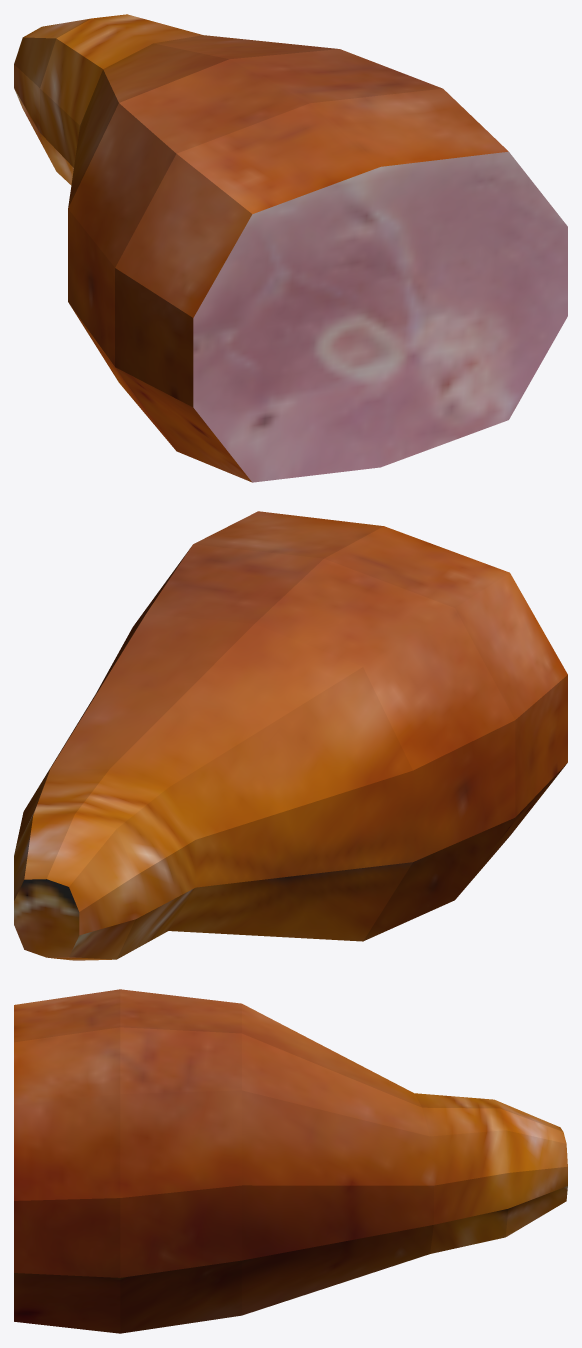
The model's file is Ham.fbx.
3 views of the same model, one above another, from view 1: azimuth 30°, elevation 25°; view 2: azimuth 150°, elevation 25°; view 3: azimuth 270°, elevation 25° (orthographic). The views are drawn at different scales.
Visible parts, largest first — view 1: Cube; view 2: Cube; view 3: Cube.
Boxes of the visible parts, bbox=[...] form: Cube: bbox=[14, 14, 567, 482]; Cube: bbox=[14, 511, 567, 960]; Cube: bbox=[14, 989, 567, 1333].
Bounding box in the file's own units: 304 × 248 × 465.
1 material, 1 textured.
